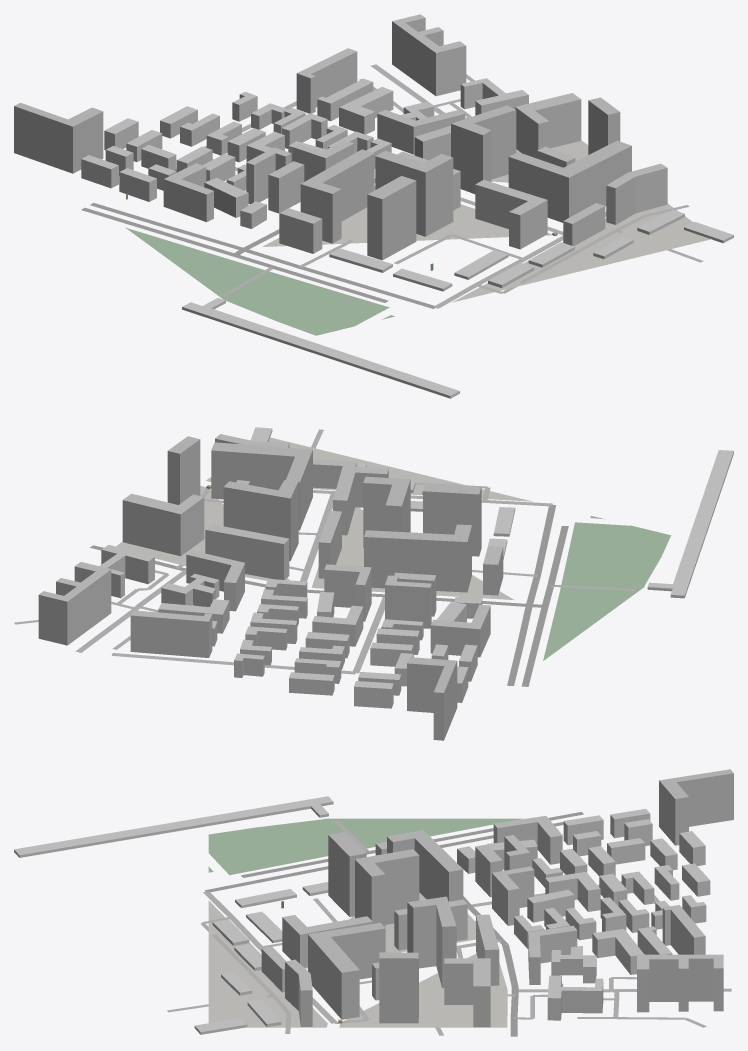
3 renders of one model, top to bottom at view 1: azimuth 30°, elevation 25°; view 2: azimuth 150°, elevation 25°; view 3: azimuth 270°, elevation 25°, orthographic. The views are drawn at different scales.
Size of the model in its own units: 569 by 73.18 by 728.
